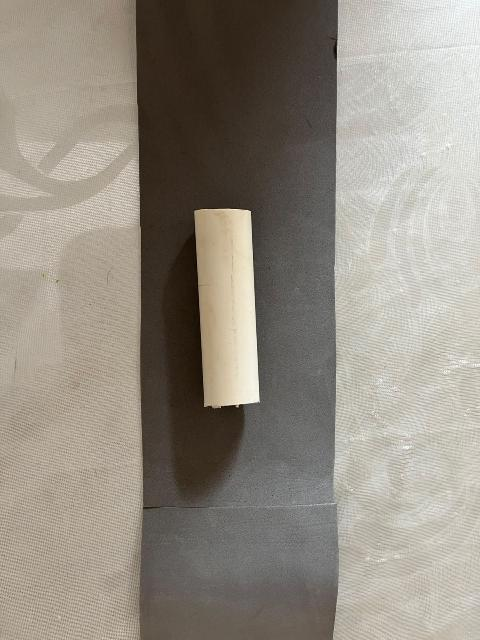PVC: (160, 179, 306, 450)
